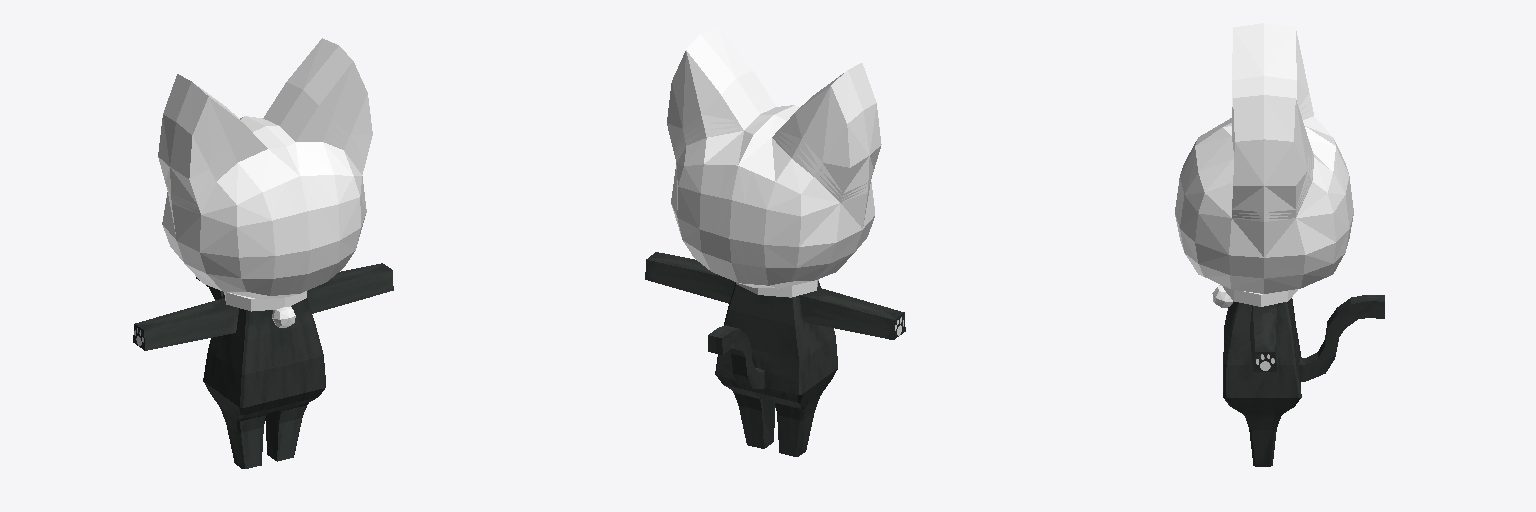
The picture shows the model from 3 angles: view 1: azimuth 30°, elevation 25°; view 2: azimuth 150°, elevation 25°; view 3: azimuth 270°, elevation 25°; orthographic projection.
Parts seen in each view (by area): view 1: Head_Head, Body_Body, Collar_Collar; view 2: Head_Head, Body_Body, Collar_Collar; view 3: Head_Head, Body_Body, Collar_Collar.
Part boxes in pixels (x1,y1,x2,y2): Head_Head: (158,38,372,298); Body_Body: (133,263,393,468); Collar_Collar: (224,291,306,327); Head_Head: (667,27,881,288); Body_Body: (645,252,905,456); Collar_Collar: (736,279,818,297); Head_Head: (1175,23,1353,293); Body_Body: (1223,295,1384,466); Collar_Collar: (1212,285,1297,307).
Size of the model in its own units: 1.99 by 3.03 by 1.46.
3 materials, 1 textured.